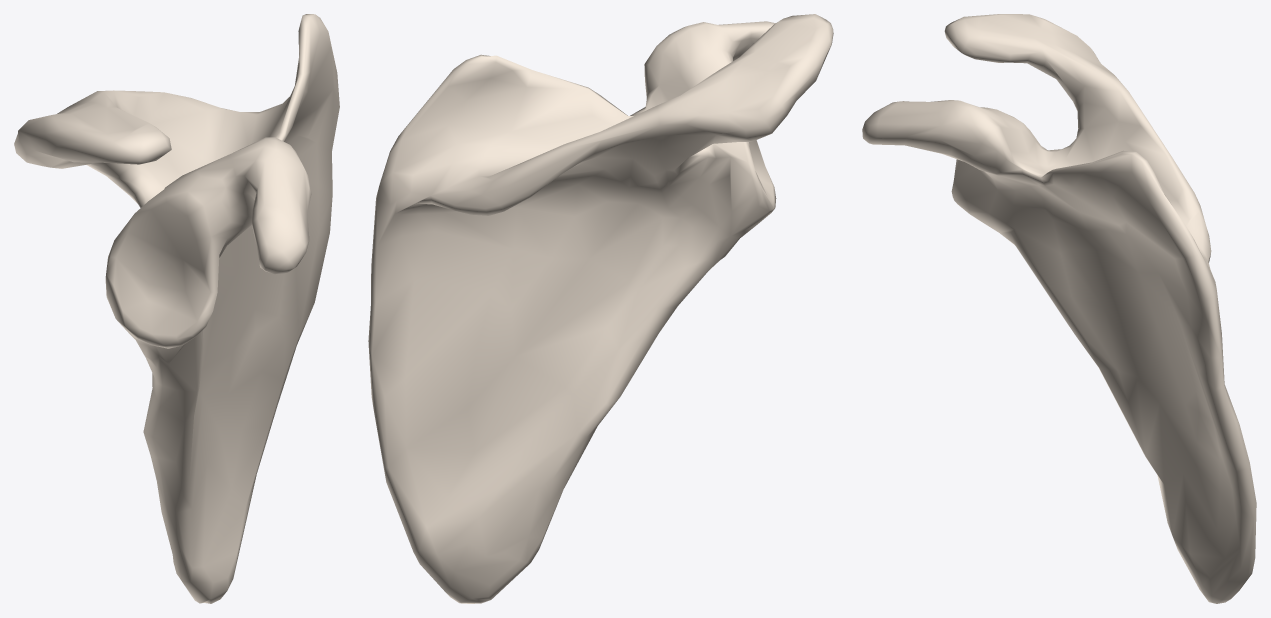
Rendered from right_scapula.glb.
3 renders of one model, left to right at view 1: azimuth 30°, elevation 25°; view 2: azimuth 150°, elevation 25°; view 3: azimuth 270°, elevation 25°, orthographic. The views are drawn at different scales.
Visible parts, largest first — view 1: Scapula.r.; view 2: Scapula.r.; view 3: Scapula.r..
Part boxes in pixels (x1,y1,x2,y2): Scapula.r.: (14,14,339,603); Scapula.r.: (368,14,833,603); Scapula.r.: (862,14,1256,603).
Size of the model in its own units: 0.0812 by 0.1224 by 0.089.
